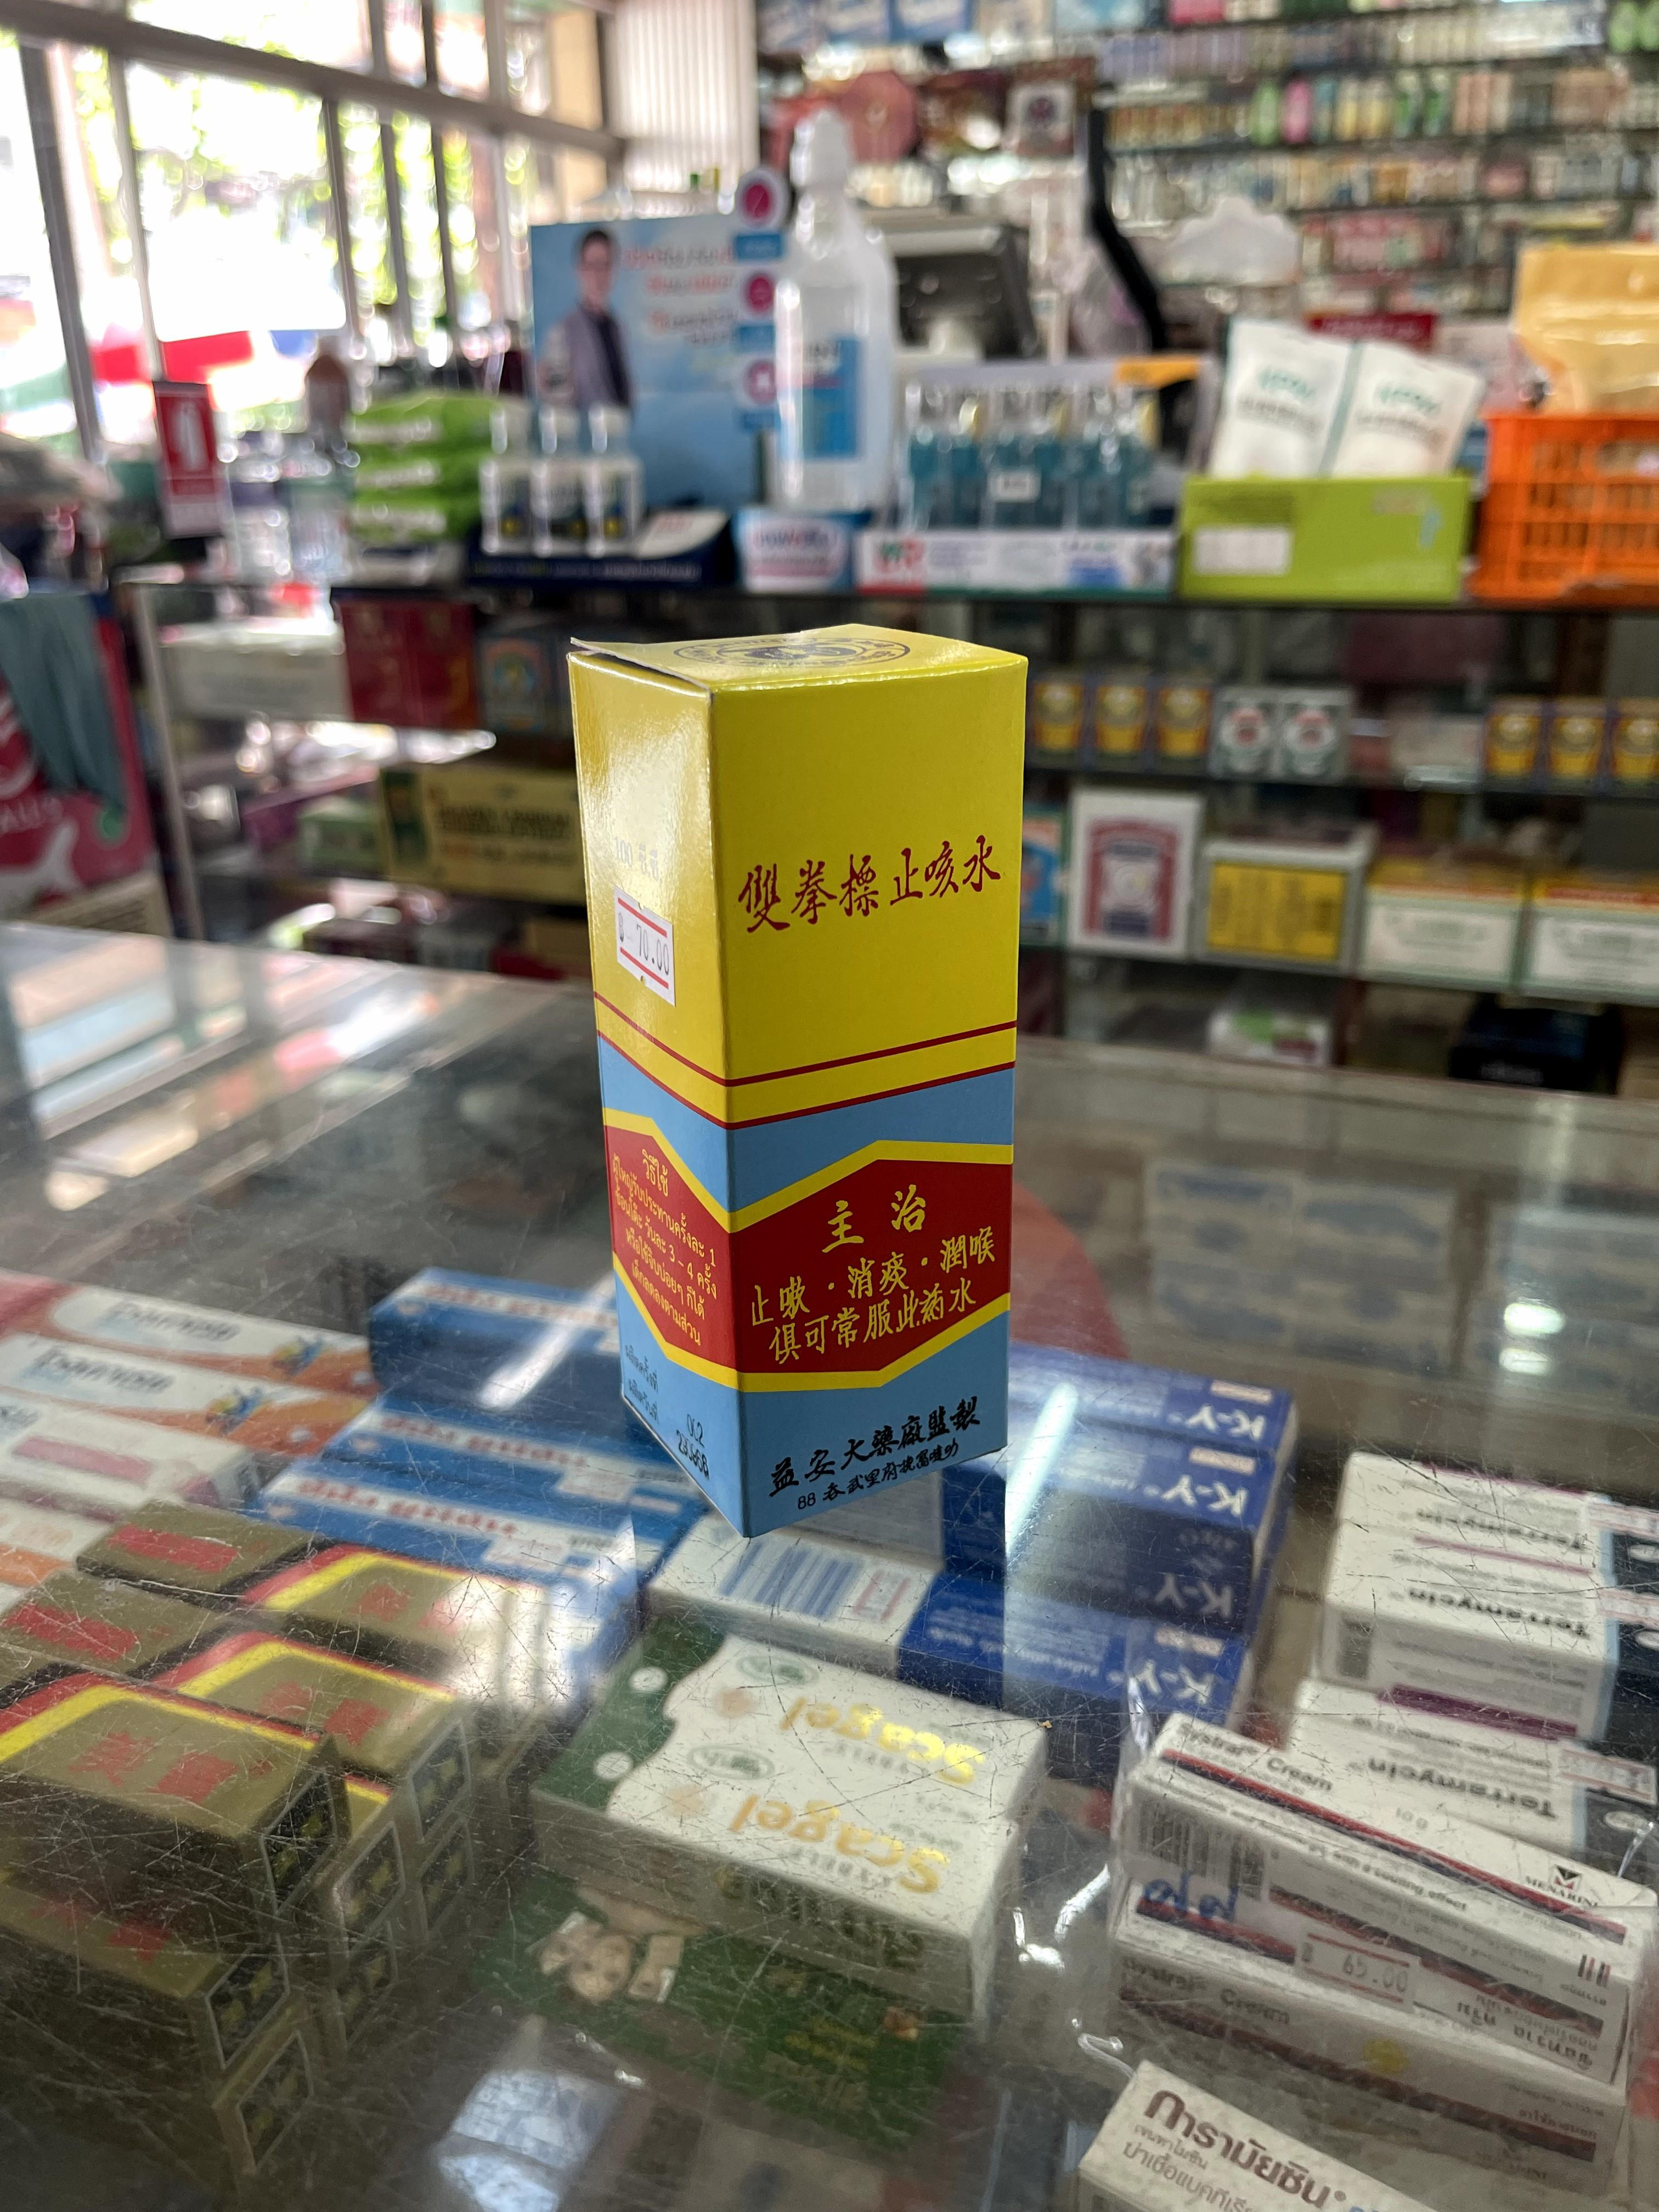Ma-Kham-Pom: (579, 629, 1023, 1536)
